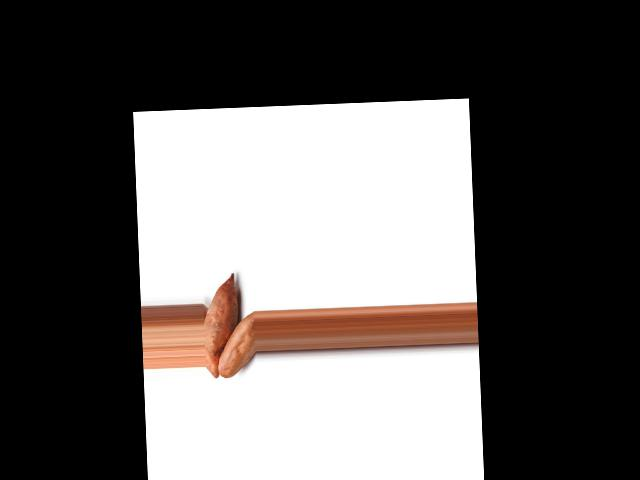sweet_potato: (216, 307, 257, 378)
